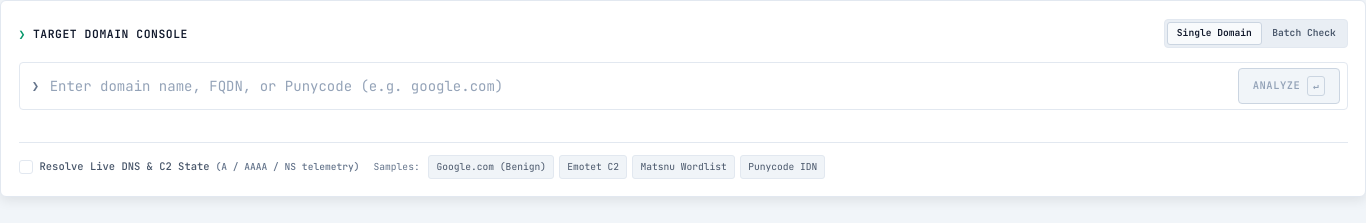
Test: DomainInput validation feedback › shows error after debounce while typing
Type "a@b.com" into the field with placeholder "Enter domain name, FQDN, or Punycode (e.g. google.com)" at (638, 86), box [50,76,1227,97]
Wait 700 ms
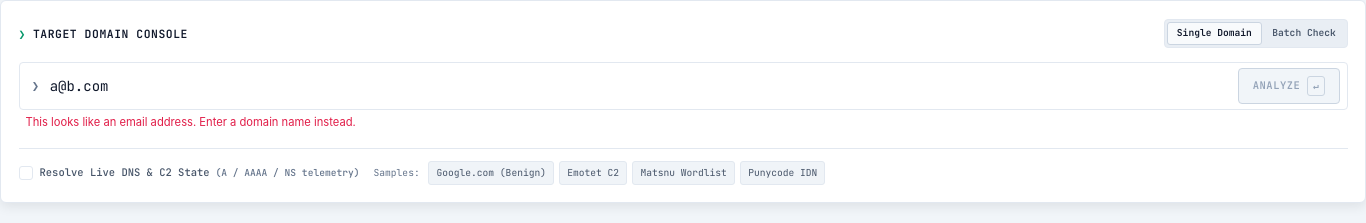
Check: the text "email address" is shown, box [26,115,356,129]
